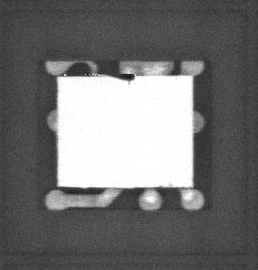DIE_BROKEN: (109, 72, 137, 83)
